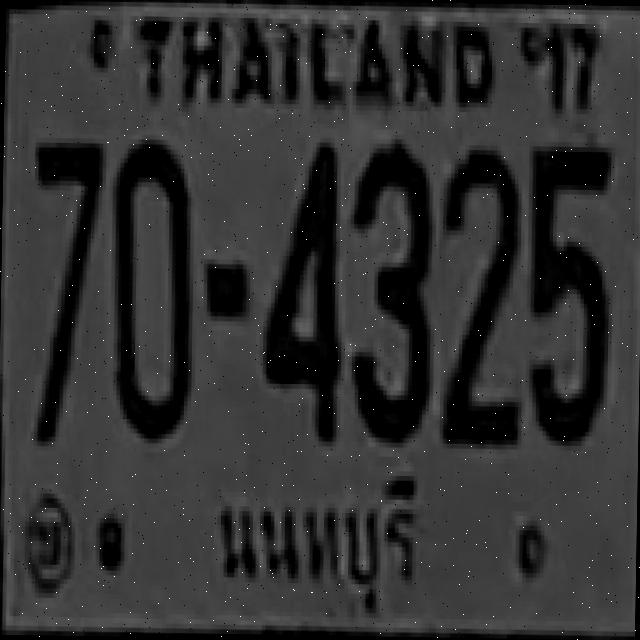0: (108, 136, 192, 436)
2: (438, 144, 520, 412), (437, 182, 519, 440), (439, 144, 518, 388)
3: (346, 140, 429, 440)
4: (258, 136, 340, 436)
5: (524, 142, 608, 442)
7: (29, 137, 104, 418), (30, 137, 101, 347), (28, 137, 102, 323)
Nonthaburi: (194, 450, 426, 620)
